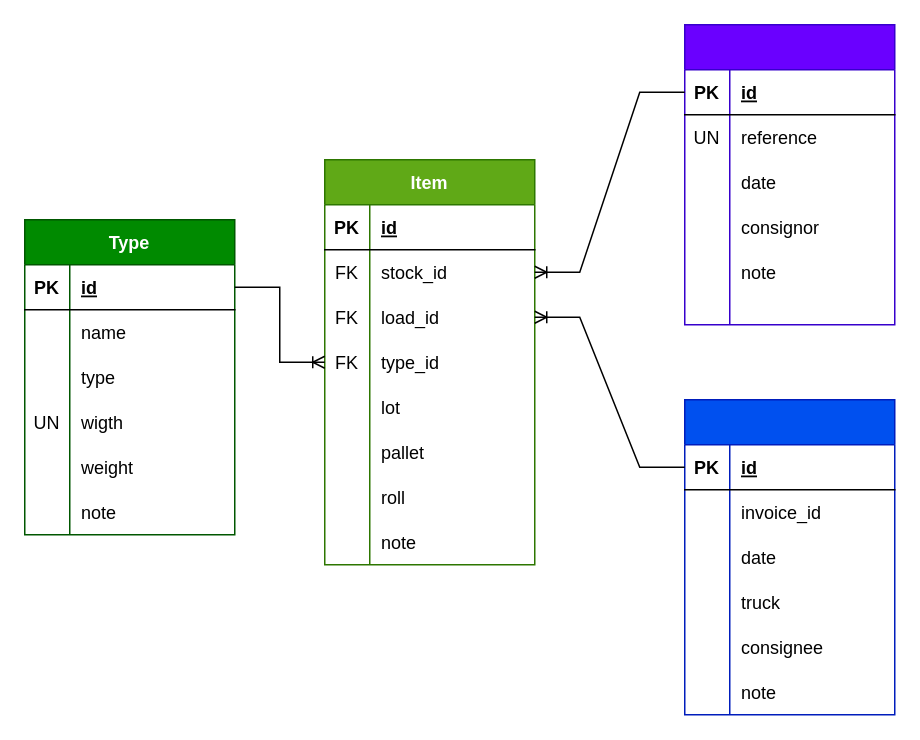
Image size: 920x740. Some labels were removed from this diagram. The box of each missing label's shape, as (x1, y1, x2, y2) in pixels:
Load: (683, 398, 895, 715)
Stock: (683, 23, 895, 325)
